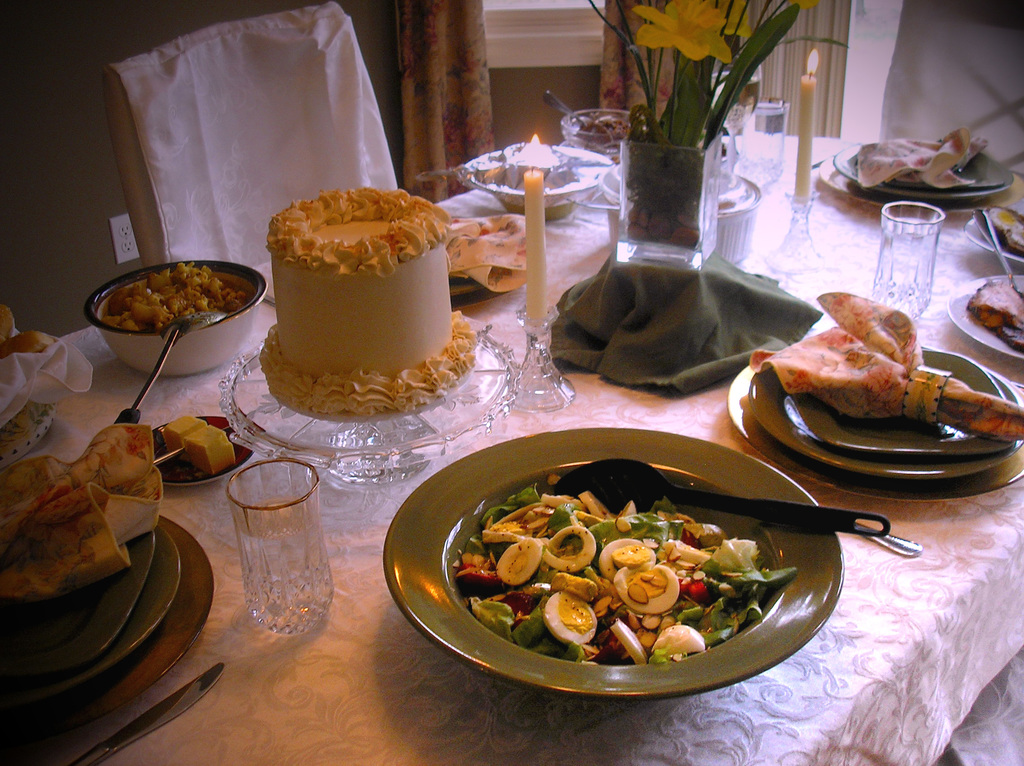cake: (259, 182, 479, 425)
